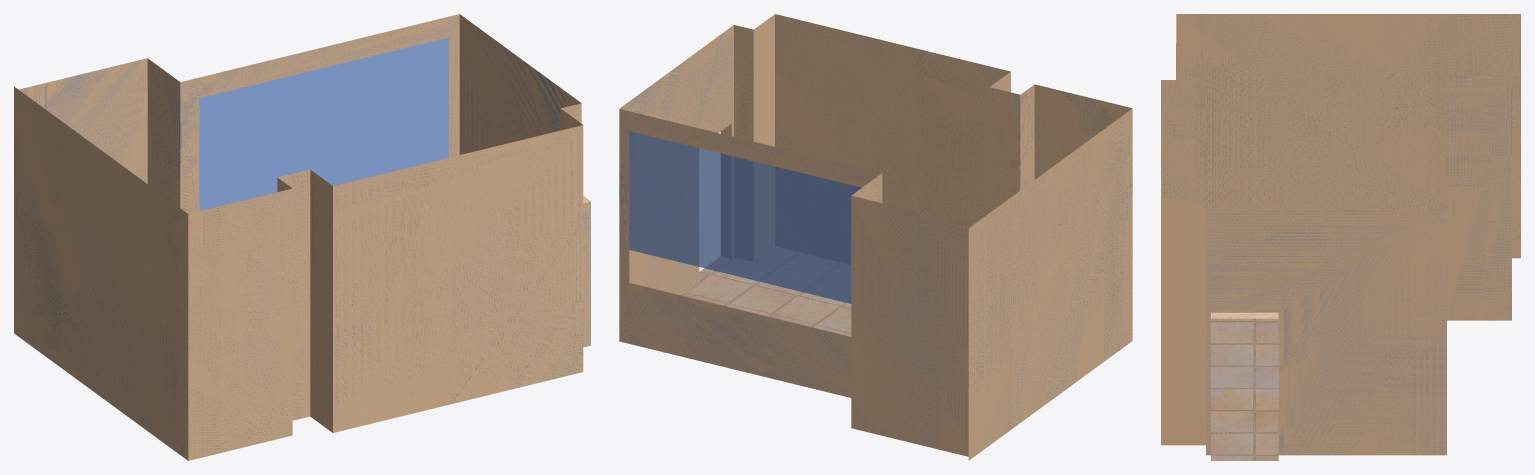
File: COM028.obj
3 views of the same model, side by side, from view 1: azimuth 30°, elevation 25°; view 2: azimuth 150°, elevation 25°; view 3: azimuth 270°, elevation 25° (orthographic). The views are drawn at different scales.
Parts seen in each view (by area): view 1: Mesh1 COM028 Model; view 2: Mesh1 COM028 Model; view 3: Mesh1 COM028 Model.
Part boxes in pixels (<box>): Mesh1 COM028 Model: <box>14,14,590,460</box>; Mesh1 COM028 Model: <box>619,14,1132,460</box>; Mesh1 COM028 Model: <box>1161,14,1520,460</box>.
Bounding box in the file's own units: 6.41 × 3.6 × 4.81.
Materials: 5 (2 with a texture image).
